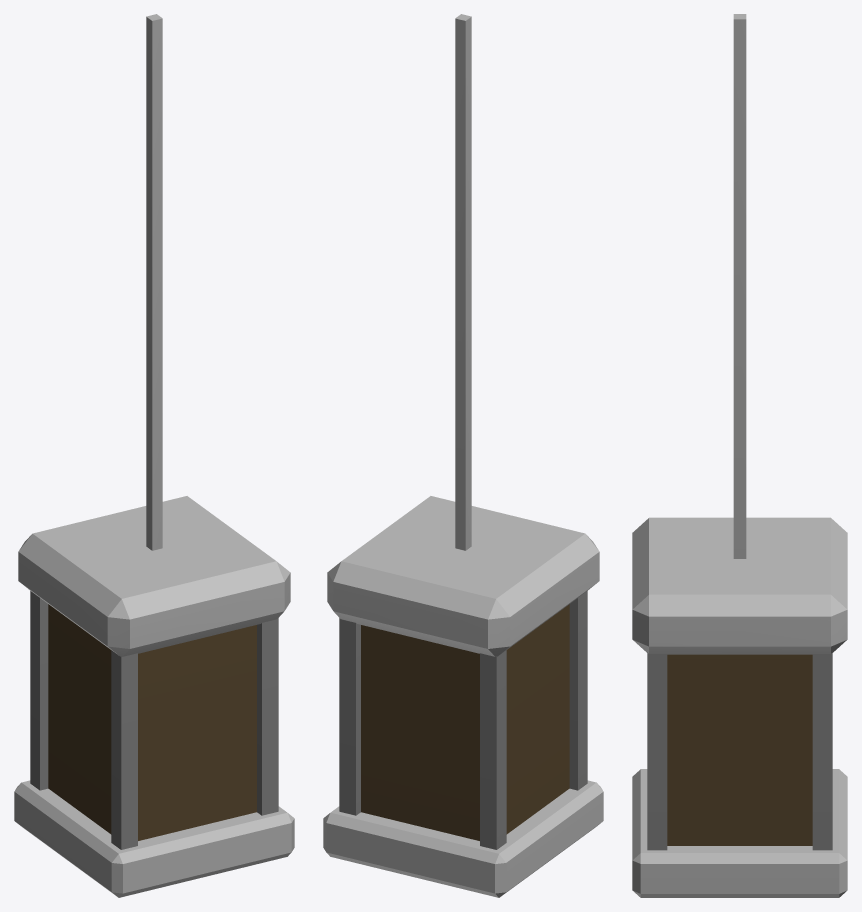
The model's file is chain_lantern_forge.glb.
The picture shows the model from 3 angles, left to right: view 1: azimuth 30°, elevation 25°; view 2: azimuth 150°, elevation 25°; view 3: azimuth 270°, elevation 25°; orthographic projection.
Parts seen in each view (by area): view 1: lamp_base; view 2: lamp_base; view 3: lamp_base.
Boxes of the visible parts, x1,y1,x2,y2 form: lamp_base: (14, 14, 294, 897); lamp_base: (323, 14, 603, 897); lamp_base: (632, 14, 847, 897).
Size of the model in its own units: 0.26 by 1.12 by 0.26.
